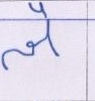ai_matra: (29, 2, 50, 18)
